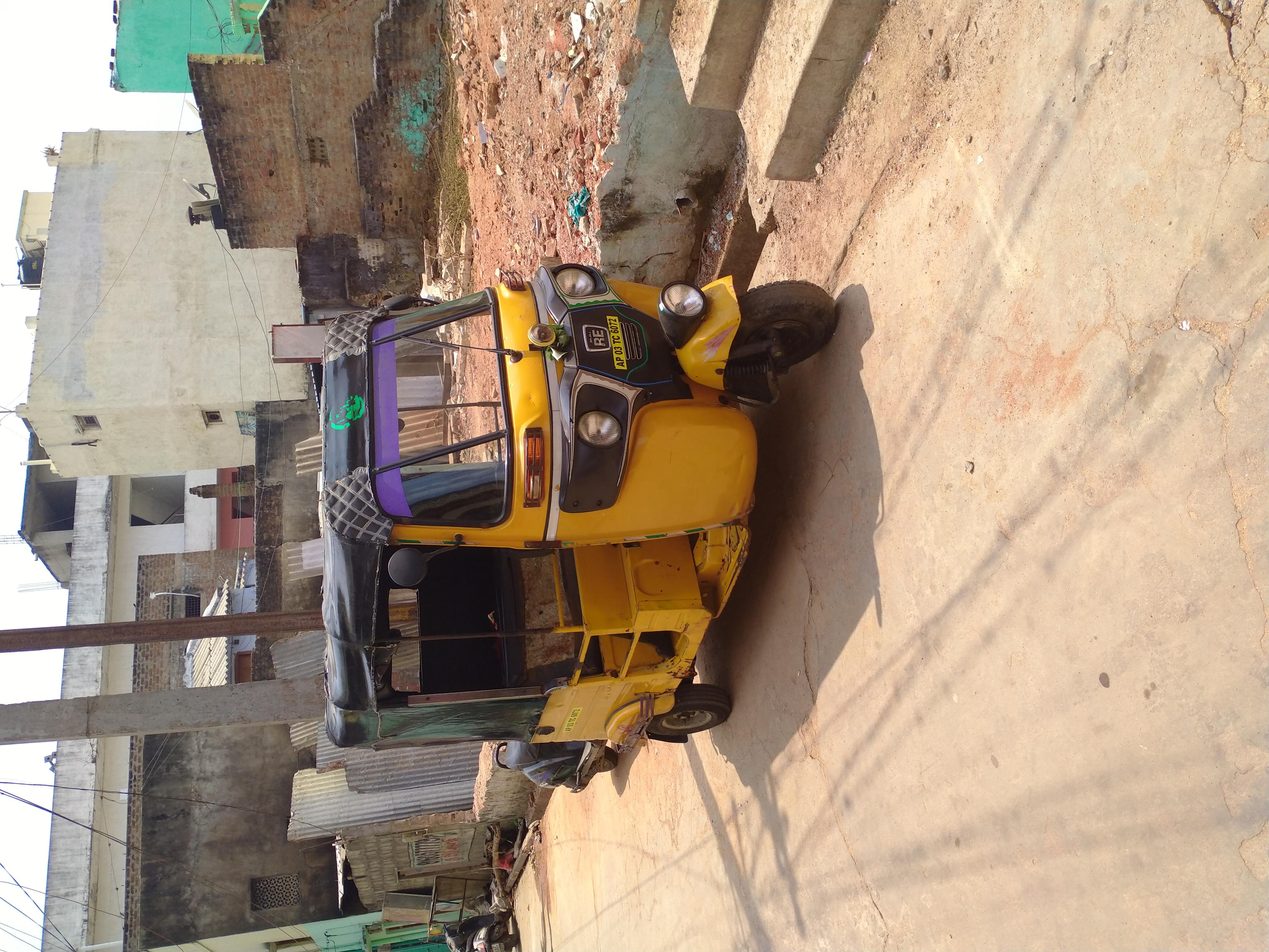Auto: (229, 229, 960, 641)
